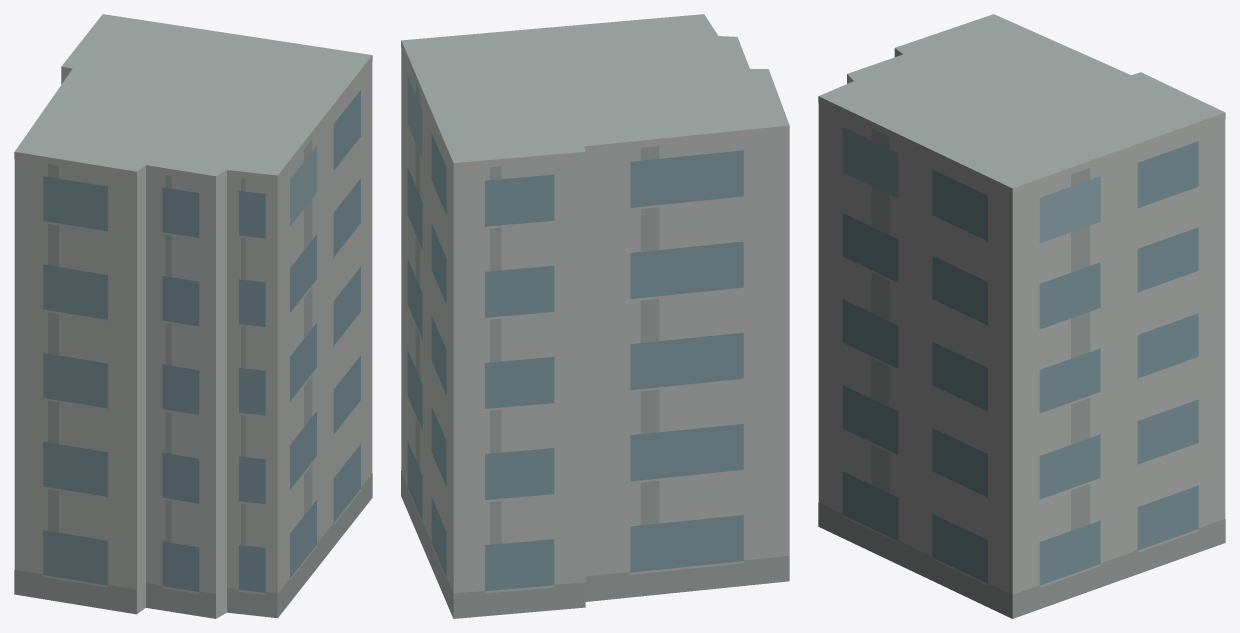
Rendered from survey-upis-32792015.glb.
3 renders of one model, left to right at view 1: azimuth 30°, elevation 25°; view 2: azimuth 150°, elevation 25°; view 3: azimuth 270°, elevation 25°, orthographic. The views are drawn at different scales.
Visible parts, largest first — view 1: survey-upis-32792015.tmp; view 2: survey-upis-32792015.tmp; view 3: survey-upis-32792015.tmp.
Part boxes in pixels (x1,y1,x2,y2): survey-upis-32792015.tmp: (14,14,372,618); survey-upis-32792015.tmp: (401,14,789,618); survey-upis-32792015.tmp: (818,14,1225,618).
Size of the model in its own units: 13.22 by 15.2 by 13.03.
